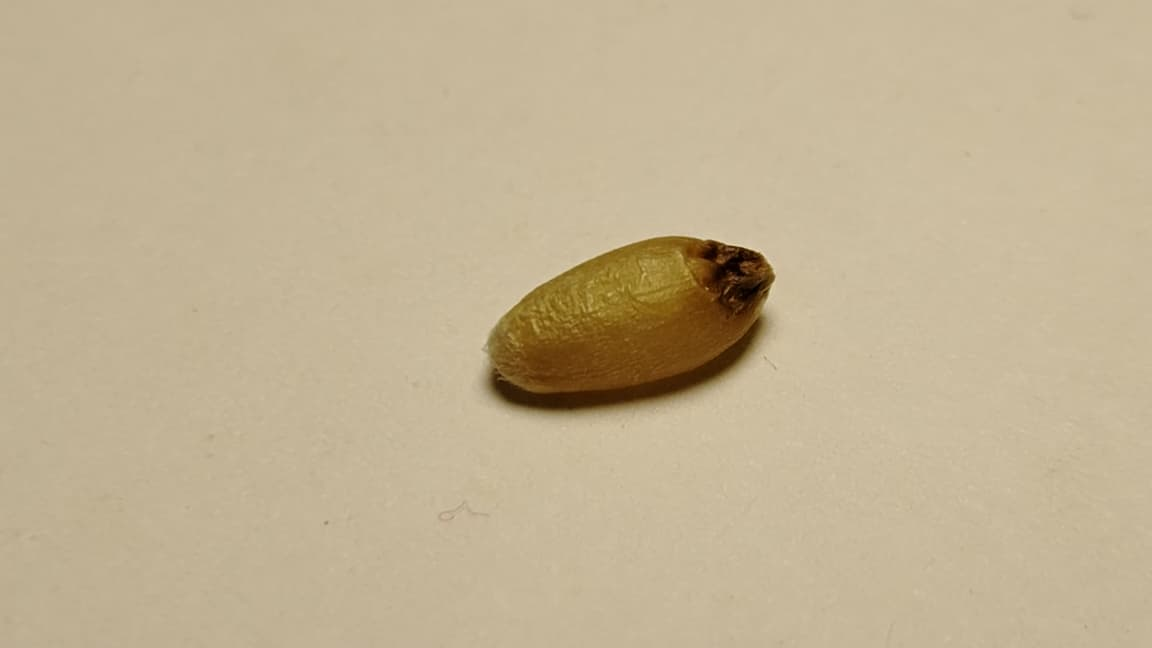black_point: (685, 239, 774, 319)
healthy: (485, 237, 774, 392)
